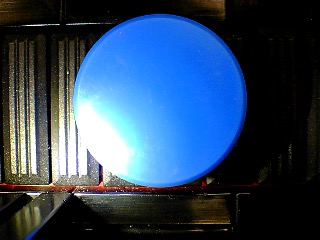BLANK: (72, 13, 248, 188)
